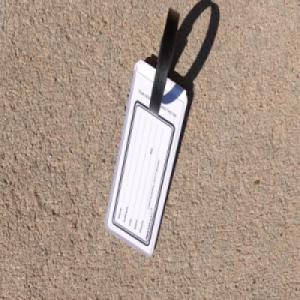LuggageTag: (104, 4, 188, 258)
